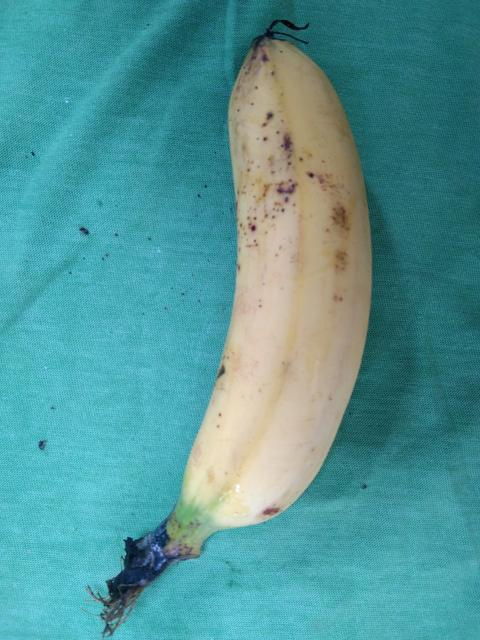ripe: (160, 22, 386, 555)
